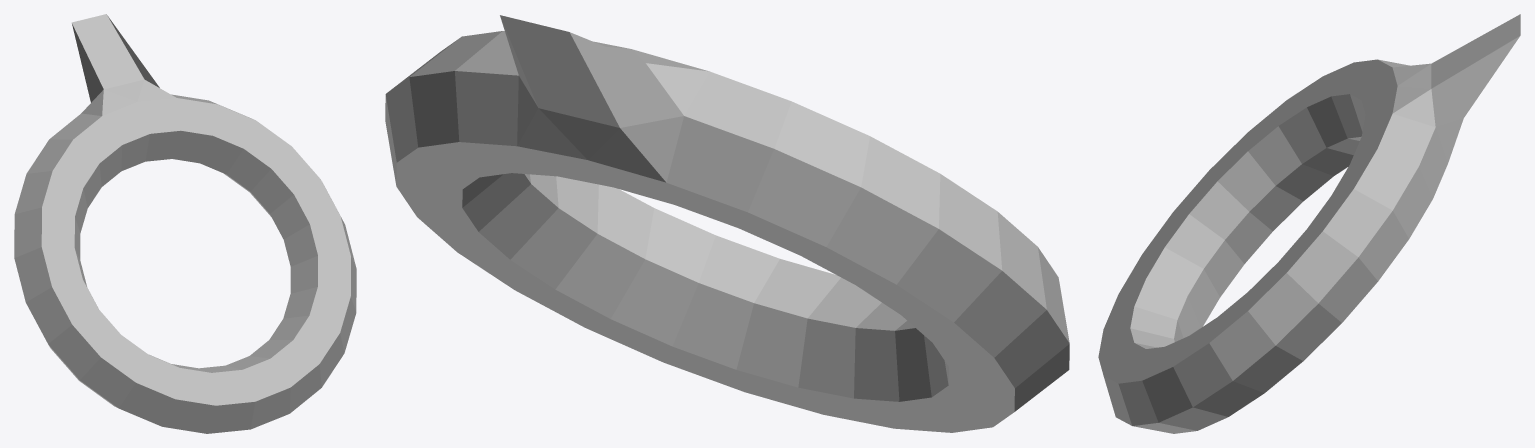
Rendered from gancho_000001.obj.
The picture shows the model from 3 angles, left to right: view 1: azimuth 30°, elevation 25°; view 2: azimuth 150°, elevation 25°; view 3: azimuth 270°, elevation 25°; orthographic projection. The views are drawn at different scales.
Parts seen in each view (by area): view 1: Torus; view 2: Torus; view 3: Torus.
Part boxes in pixels (<box>): Torus: <box>14,14,356,433</box>; Torus: <box>385,15,1069,432</box>; Torus: <box>1098,14,1520,433</box>.
Bounding box in the file's own units: 9.3 × 8.39 × 8.39.
Materials: 1 (1 with a texture image).
